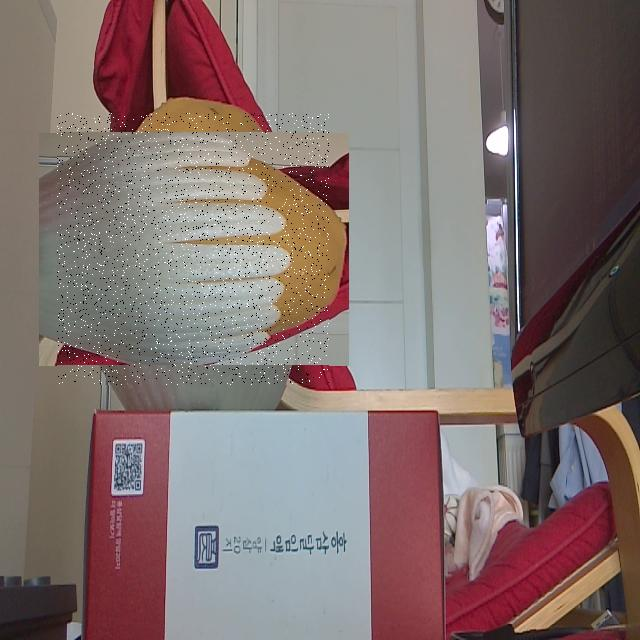pear: (58, 114, 330, 386)
